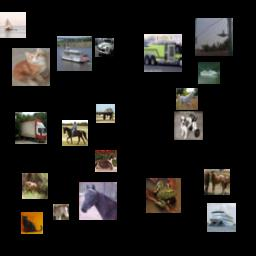airplane: (195, 18, 233, 56), (96, 104, 115, 123)
automobile: (95, 38, 114, 57)
cat: (12, 48, 50, 86), (21, 212, 43, 234)
deer: (22, 173, 48, 199)
dog: (174, 111, 203, 140), (95, 150, 117, 172)
frog: (146, 178, 181, 213)
ship: (57, 36, 92, 71), (207, 203, 236, 232), (0, 12, 26, 38), (198, 62, 220, 84)
truck: (144, 34, 182, 72), (15, 112, 47, 144)
